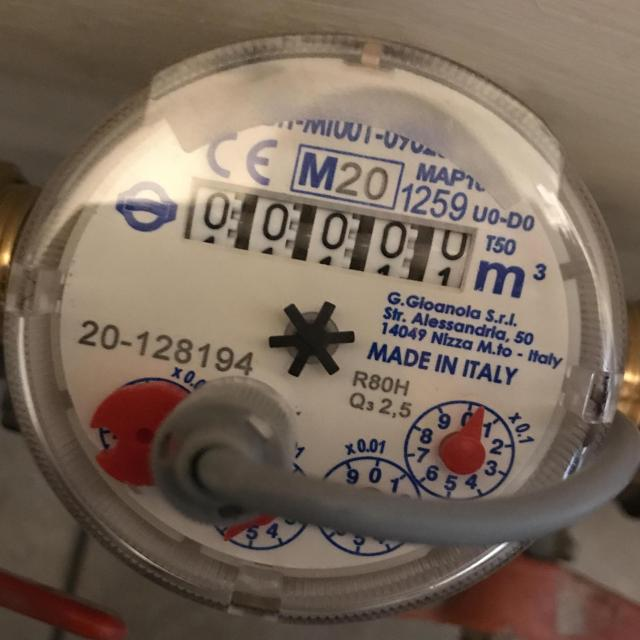gaz_meter: (0, 35, 618, 606)
indication: (182, 178, 480, 293)
